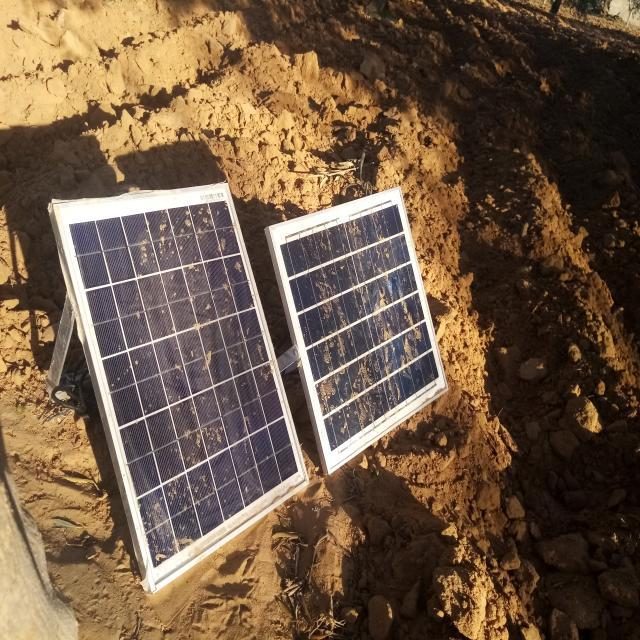faulty: (54, 182, 308, 588), (270, 189, 448, 473)
